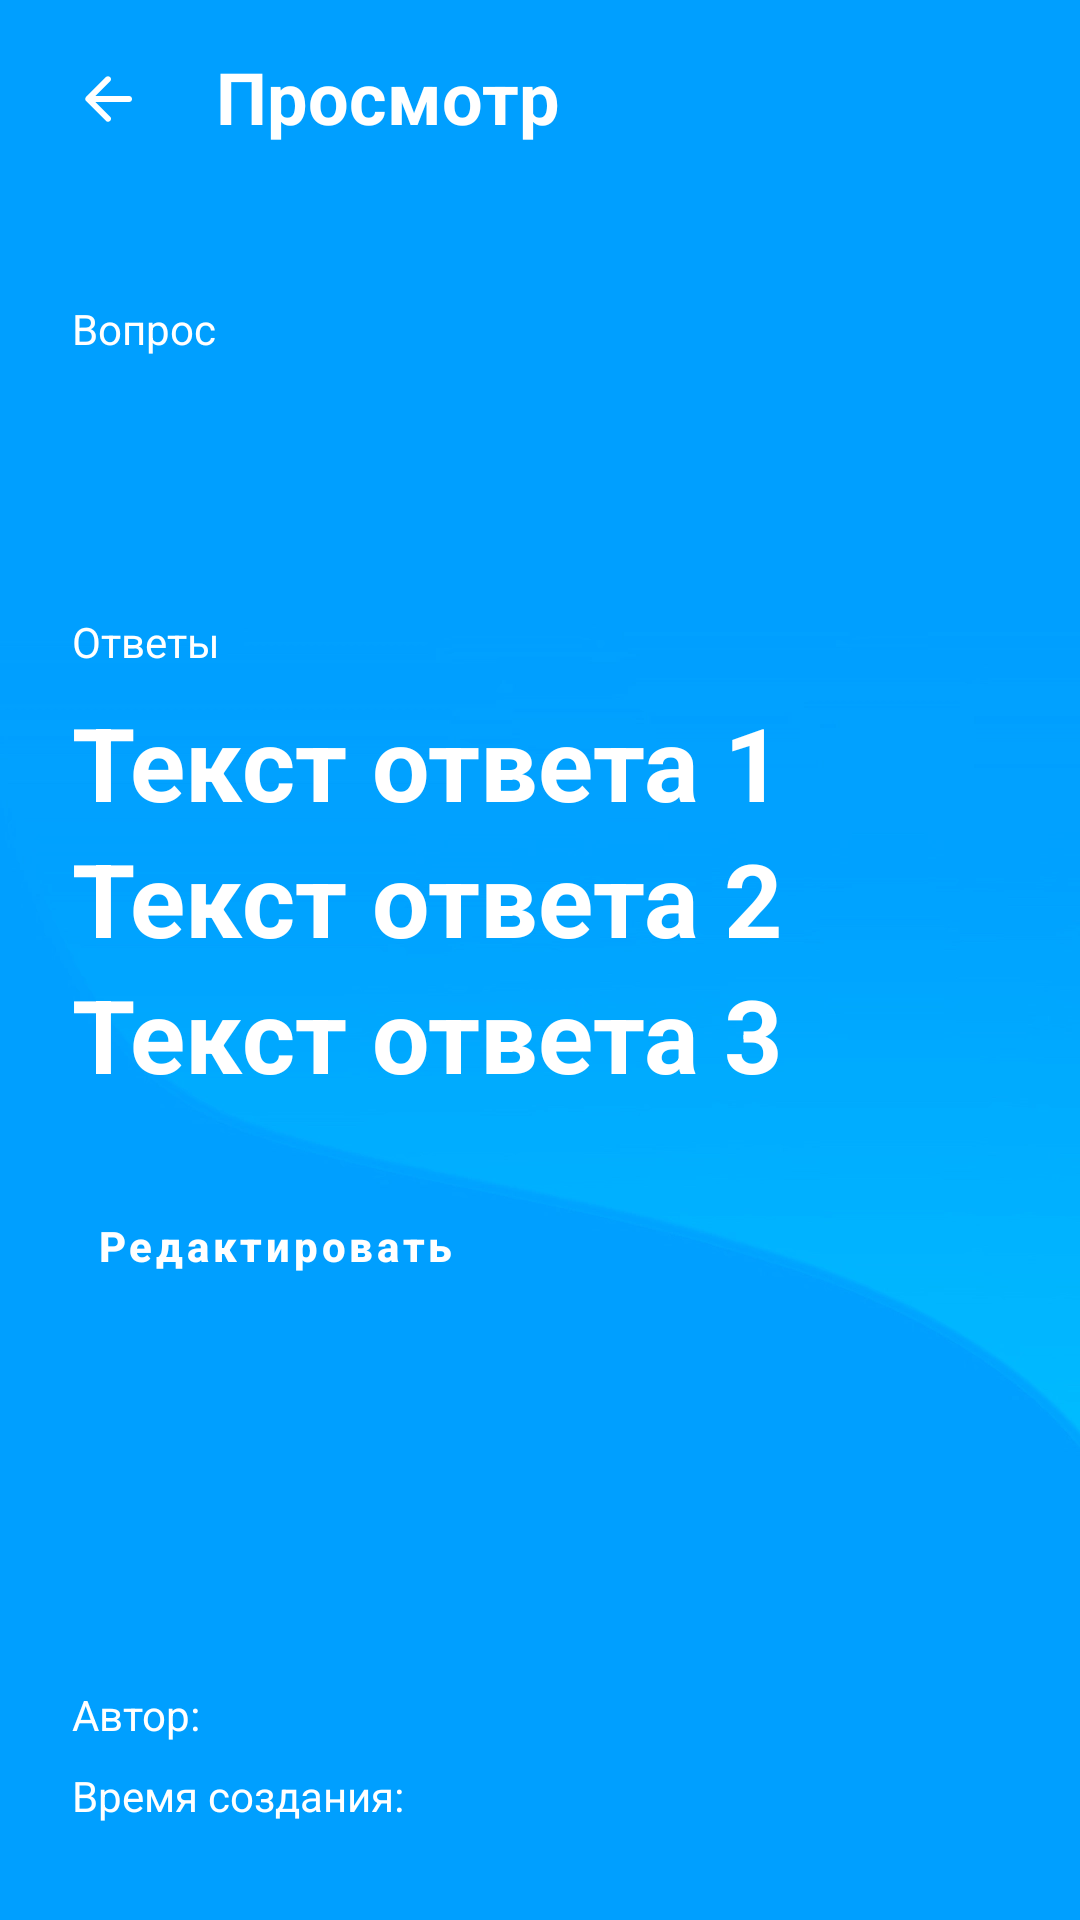

Icons on this 1080×1920 Android screen, each with its box as rect(x1, y1, x2, y2):
arrow back: rect(85, 76, 132, 122)
